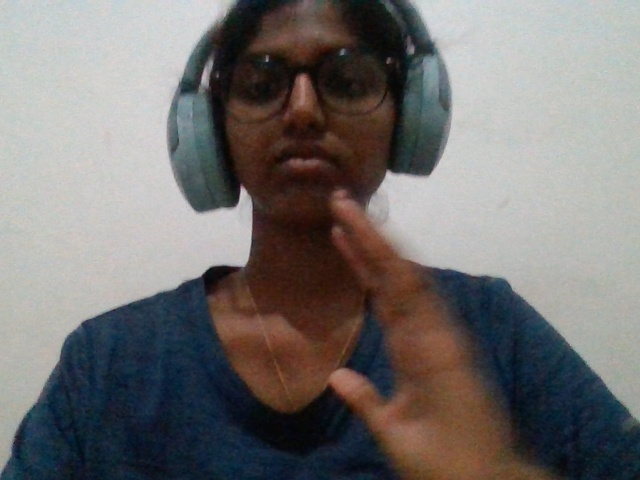Fine: (284, 177, 520, 478)
